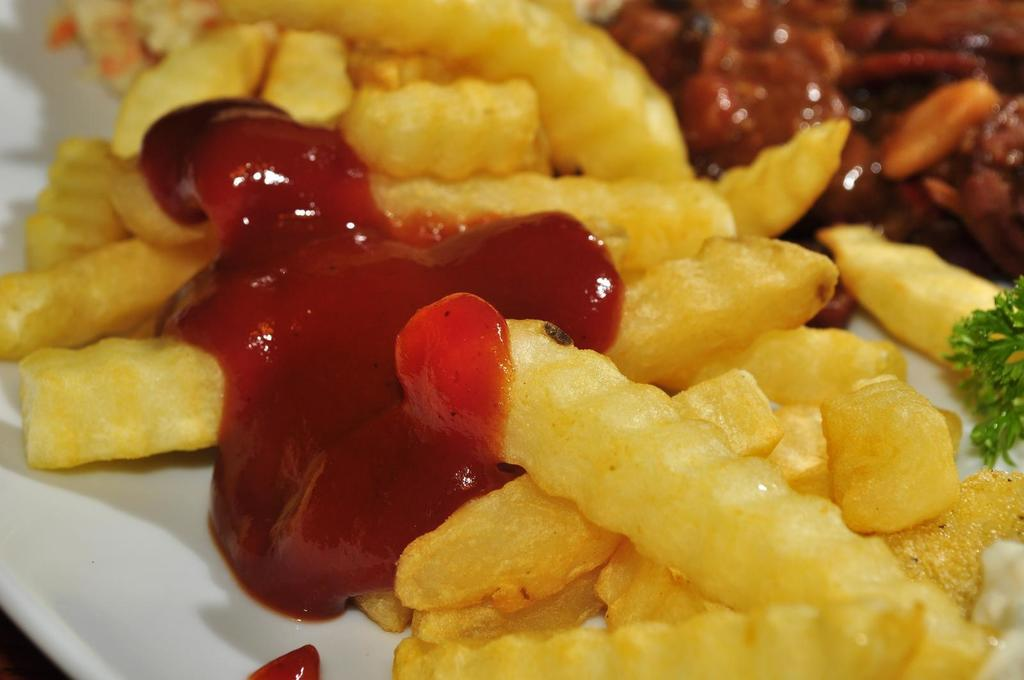French fries: (378, 299, 997, 655), (21, 235, 839, 475), (388, 376, 783, 631), (208, 0, 698, 186), (736, 316, 944, 536), (800, 189, 1023, 392), (402, 595, 934, 679), (597, 230, 846, 376), (0, 234, 263, 371), (334, 169, 742, 250), (110, 28, 350, 149), (339, 78, 551, 178), (720, 99, 858, 225), (11, 127, 110, 274)
